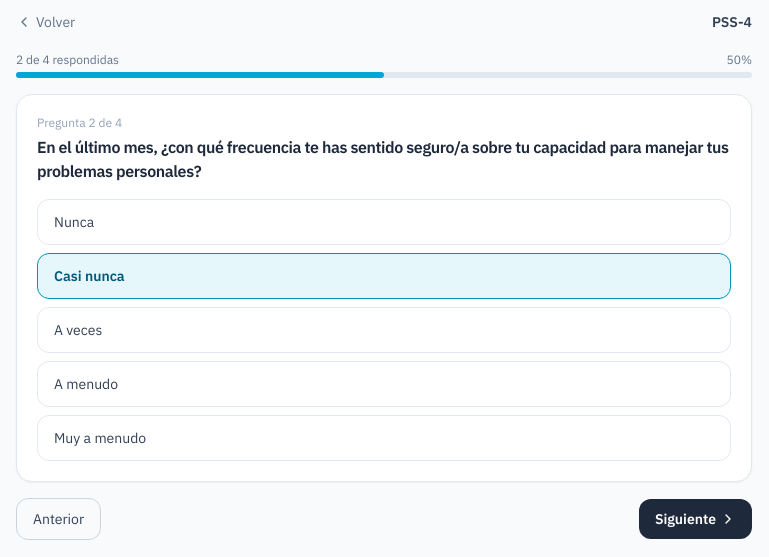
MhAssessmentRunPage (flujo responder → preview → completar → resultado) › error de backend al completar: permanece en preview y muestra el error real (no mock/demo)
Earlier steps of the test are not shown.
Click the button "Siguiente" at (695, 519), box [639,499,752,539]
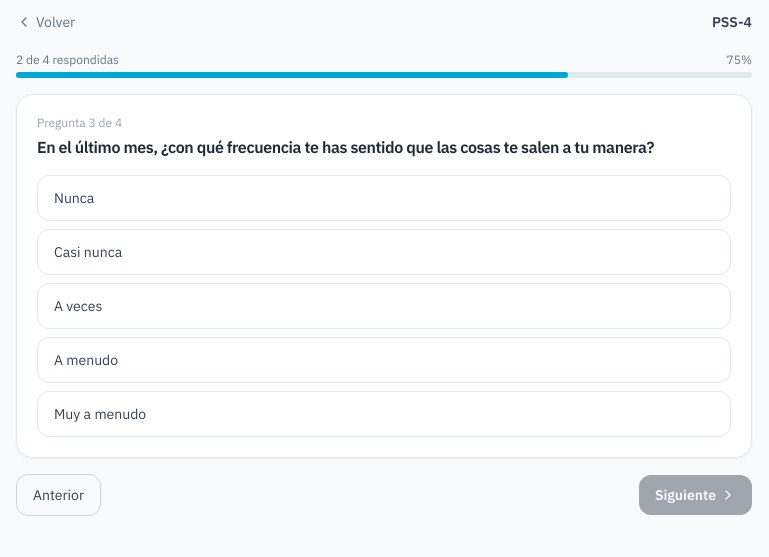
expect the text "Pregunta 3 de 4" is shown: met, box [37,115,122,130]
Click the button "A veces" at (78, 306), box [37,283,731,329]
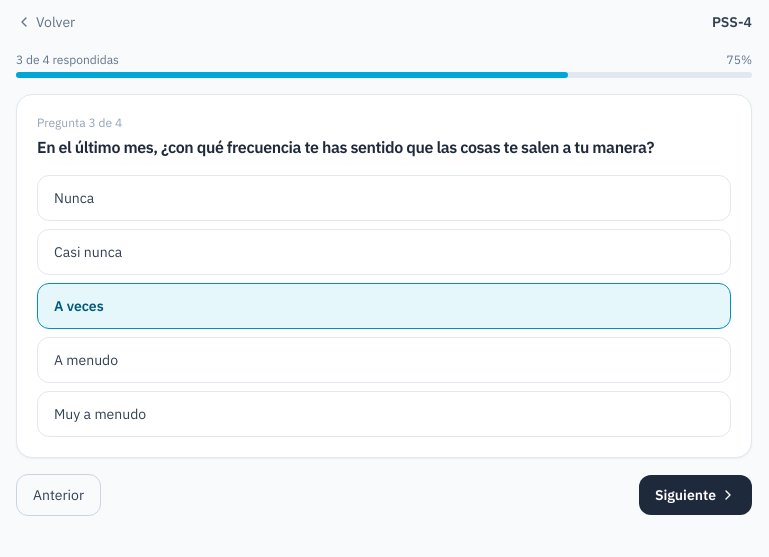
Click the button "Siguiente" at (695, 495), box [639,475,752,515]
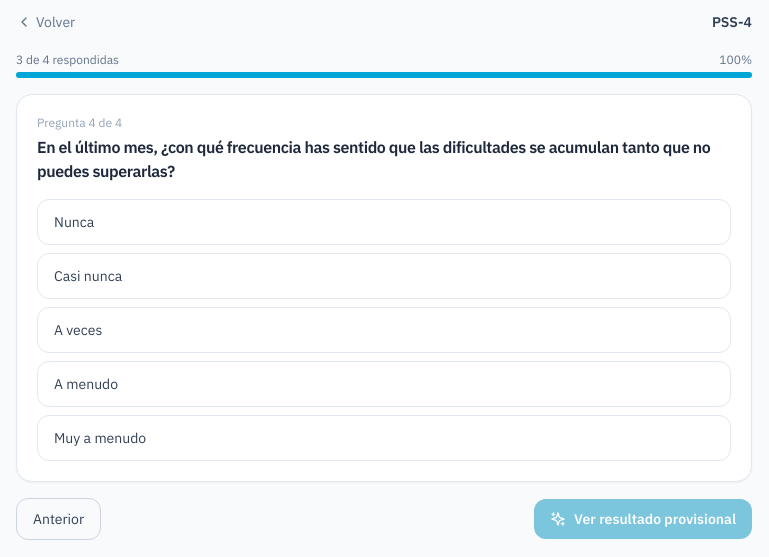
expect the text "Pregunta 4 de 4" is shown: met, box [37,115,122,130]
Click the button "Muy a menudo" at (100, 438), box [37,415,731,461]
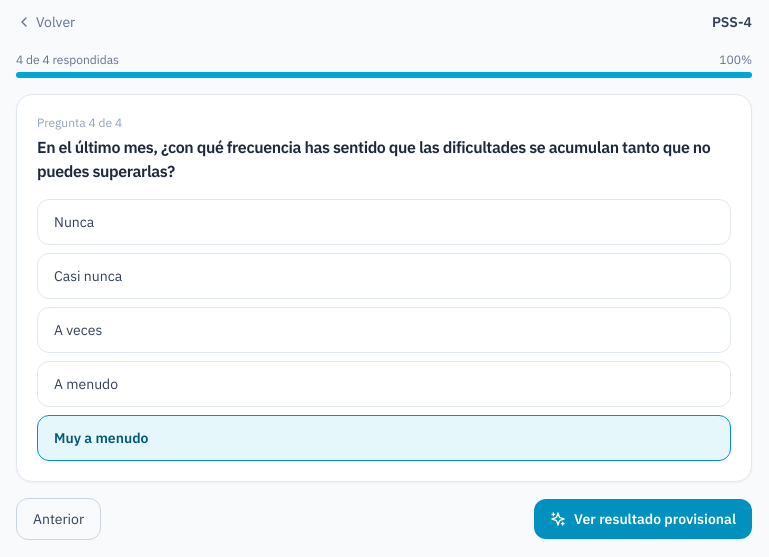
Click the button with test id "wb-preview-btn" at (643, 519), box [534,499,752,539]
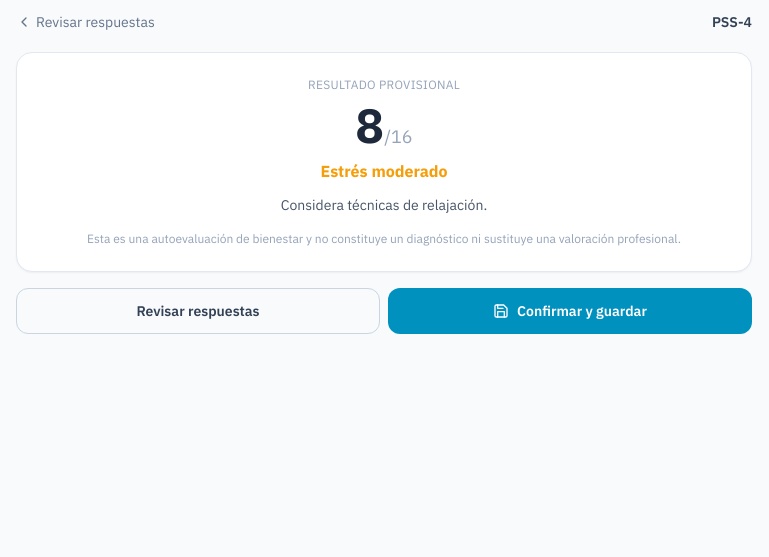
expect the element with test id "wb-preview" is shown: met, box [16,52,752,334]
Click the button with test id "wb-confirm" at (570, 311), box [388,288,752,334]
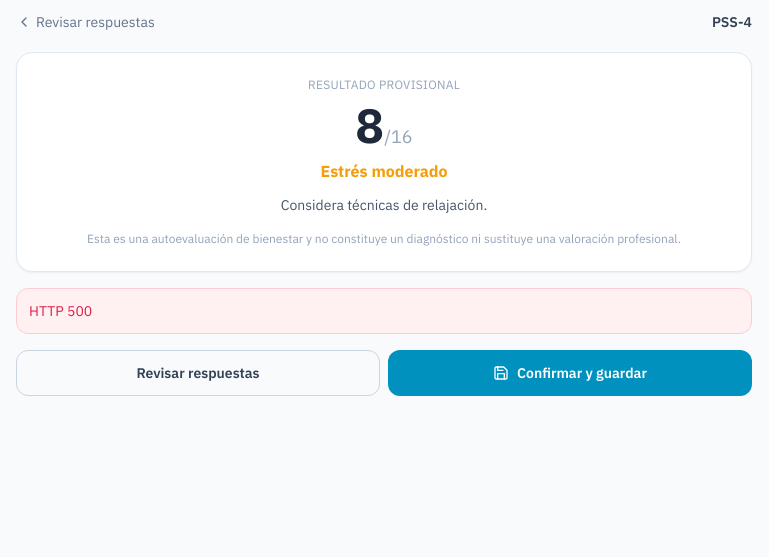
expect the element with test id "wb-preview" is shown: met, box [16,52,752,396]
expect the button "Confirmar y guardar" is enabled: met, box [388,350,752,396]
expect the text "HTTP 500" is shown: met, box [16,288,752,334]
